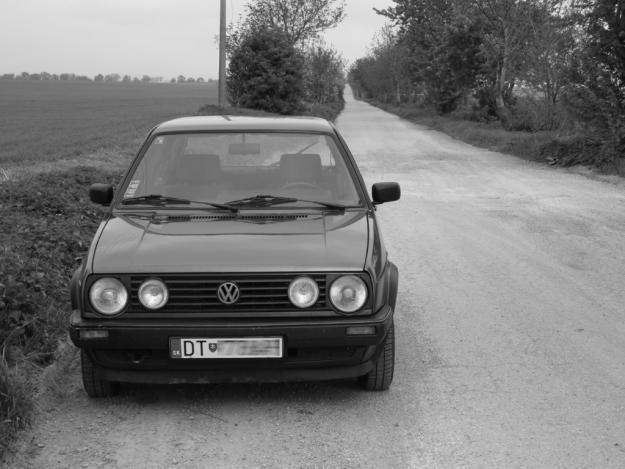car: (65, 111, 402, 396)
